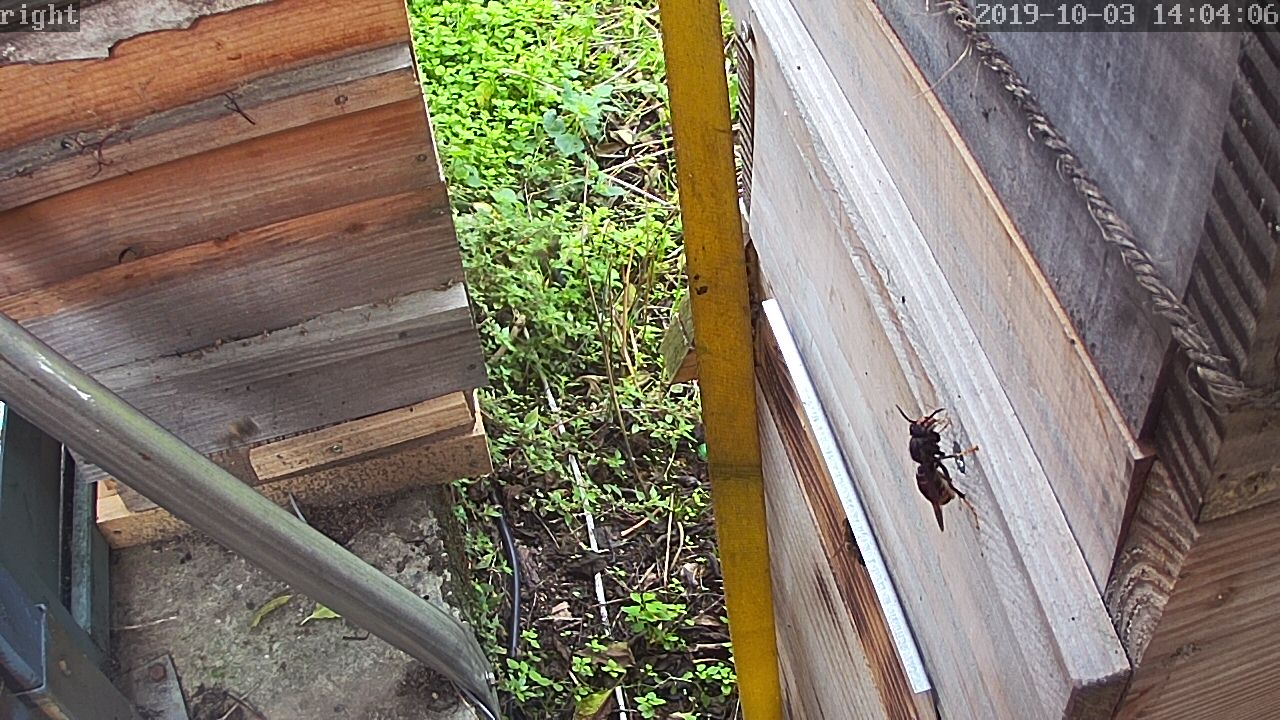bee: (834, 515, 867, 563)
hornet: (897, 409, 982, 527)
